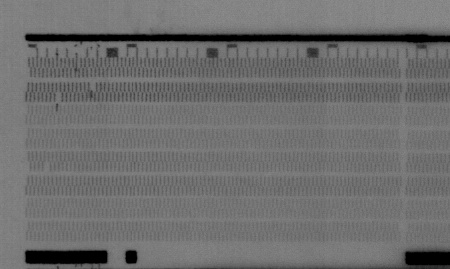Broken hole: (41, 162, 53, 175)
Oblique printing: (52, 92, 63, 106), (88, 83, 98, 97)
